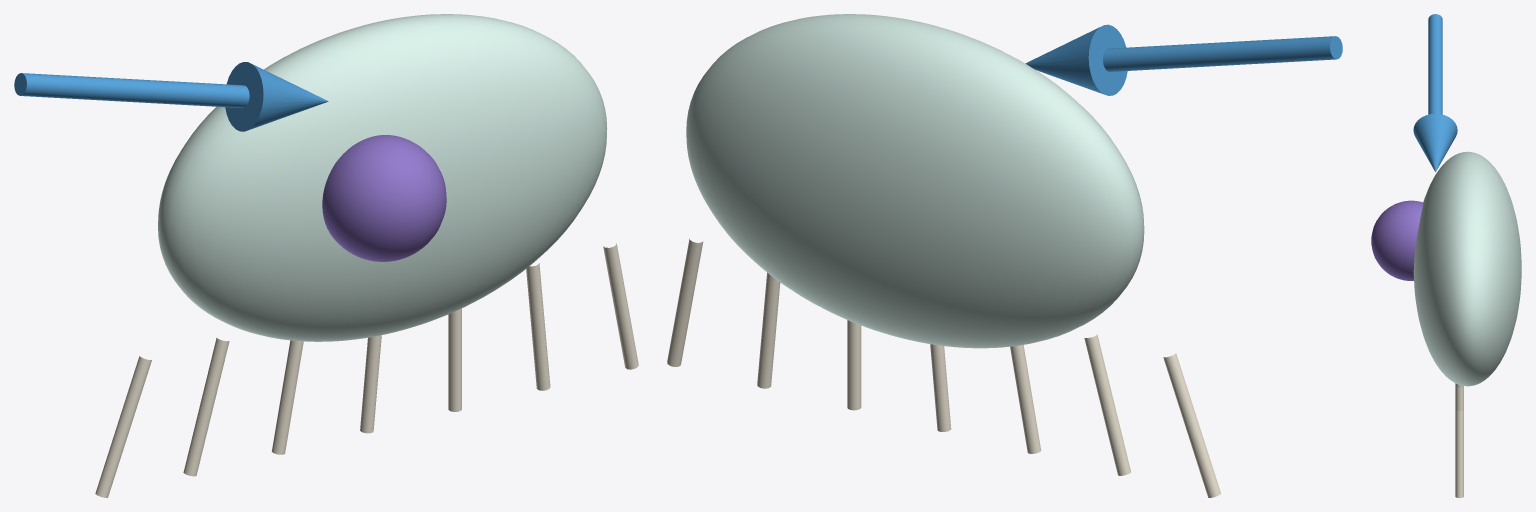
Rendered from bio-p1-protozoa.glb.
The picture shows the model from 3 angles, left to right: view 1: azimuth 30°, elevation 25°; view 2: azimuth 150°, elevation 25°; view 3: azimuth 270°, elevation 25°; orthographic projection. The views are drawn at different scales.
Visible parts, largest first — view 1: protozoan-cell-body, protozoan-nucleus, single-cell-swim-arrow-shaft, single-cell-swim-arrow-head, cilia-hair-0, cilia-hair-1, cilia-hair-6, cilia-hair-5, cilia-hair-2, cilia-hair-4, cilia-hair-3; view 2: protozoan-cell-body, single-cell-swim-arrow-shaft, single-cell-swim-arrow-head, cilia-hair-0, cilia-hair-1, cilia-hair-6, cilia-hair-5, cilia-hair-2, cilia-hair-4, cilia-hair-3; view 3: protozoan-cell-body, protozoan-nucleus, single-cell-swim-arrow-head, single-cell-swim-arrow-shaft, cilia-hair-6, cilia-hair-5.
Part boxes in pixels (x1,y1,x2,y2): protozoan-cell-body: (158,14,607,341); protozoan-nucleus: (322,135,446,261); single-cell-swim-arrow-shaft: (14,73,249,108); single-cell-swim-arrow-head: (225,62,328,131); cilia-hair-0: (95,356,151,497); cilia-hair-1: (183,338,229,476); cilia-hair-6: (603,243,638,369); cilia-hair-5: (526,263,550,390); cilia-hair-2: (271,340,303,454); cilia-hair-4: (448,308,461,411); cilia-hair-3: (360,335,381,433); protozoan-cell-body: (686,14,1144,348); single-cell-swim-arrow-shaft: (1103,36,1342,71); single-cell-swim-arrow-head: (1025,24,1127,95); cilia-hair-0: (1163,353,1220,497); cilia-hair-1: (1084,334,1130,475); cilia-hair-6: (667,238,703,366); cilia-hair-5: (757,272,780,388); cilia-hair-2: (1010,345,1041,453); cilia-hair-4: (847,320,861,410); cilia-hair-3: (930,344,951,431); protozoan-cell-body: (1413,151,1521,386); protozoan-nucleus: (1371,200,1423,280); single-cell-swim-arrow-head: (1413,113,1457,171); single-cell-swim-arrow-shaft: (1428,14,1442,114); cilia-hair-6: (1455,410,1463,497); cilia-hair-5: (1455,386,1463,410).
Size of what is drawn, in the model's own units: 1.16 by 0.7985 by 0.3744.
